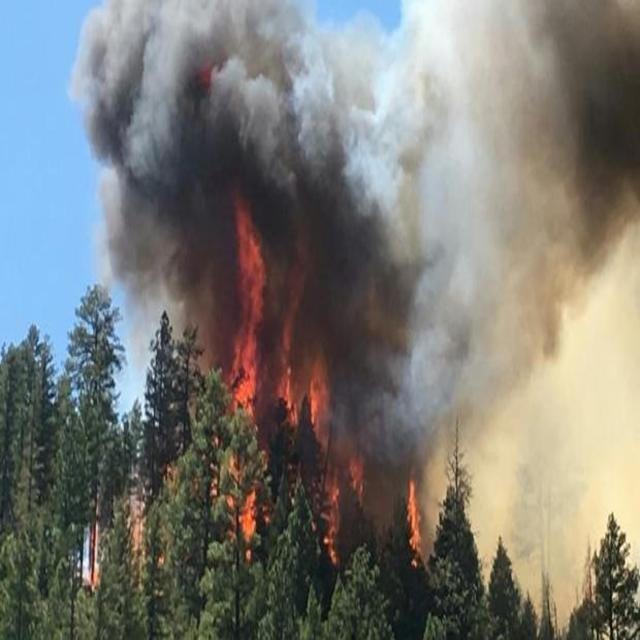Fire: (225, 192, 272, 571), (305, 348, 343, 567), (274, 229, 302, 427), (402, 469, 429, 571), (342, 446, 372, 518)
Smoke: (78, 0, 640, 483)
